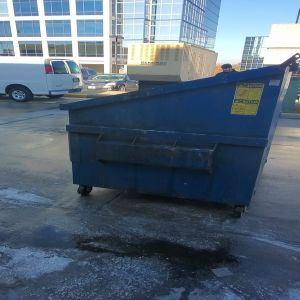Dumpster: (66, 72, 286, 215)
Person: (216, 62, 238, 74)
